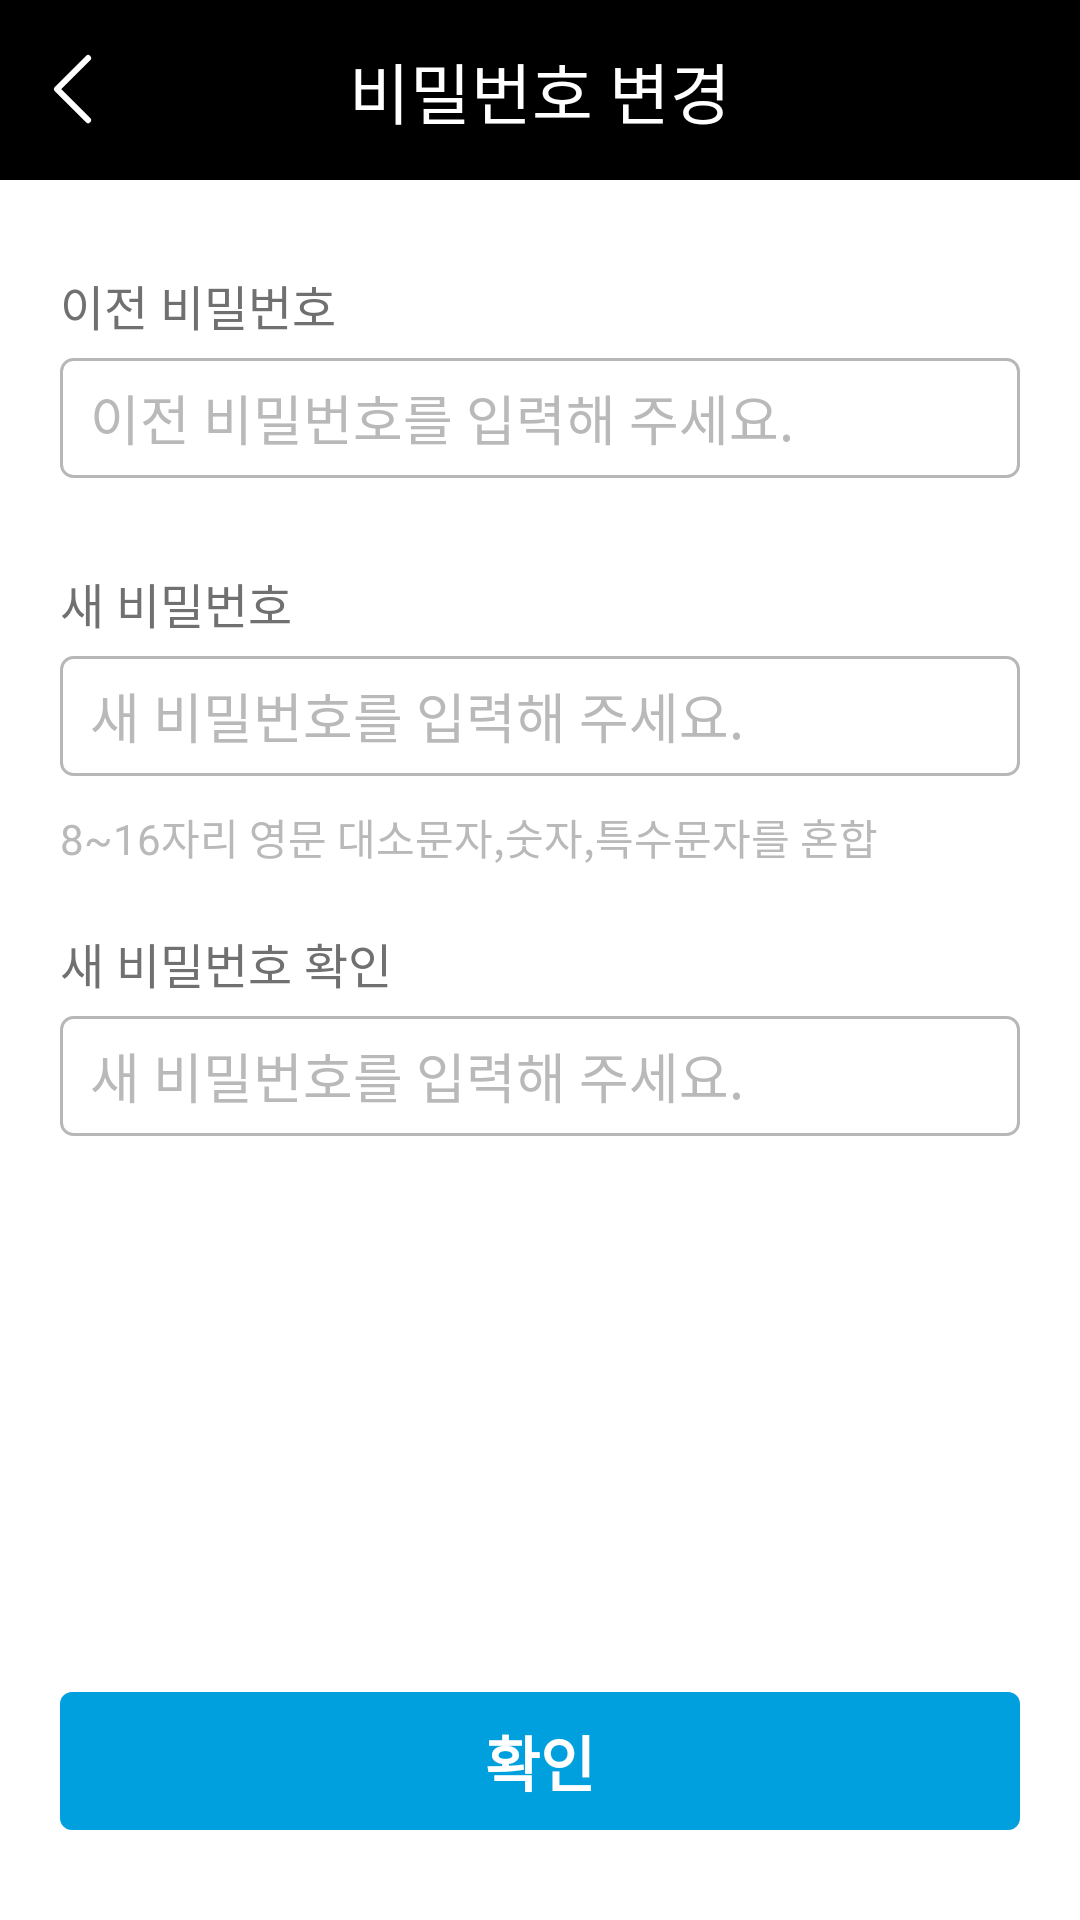

Screen size 1080px×1920px. Icon name, then its center in pixels as (x,y):
title back: (73,89)
